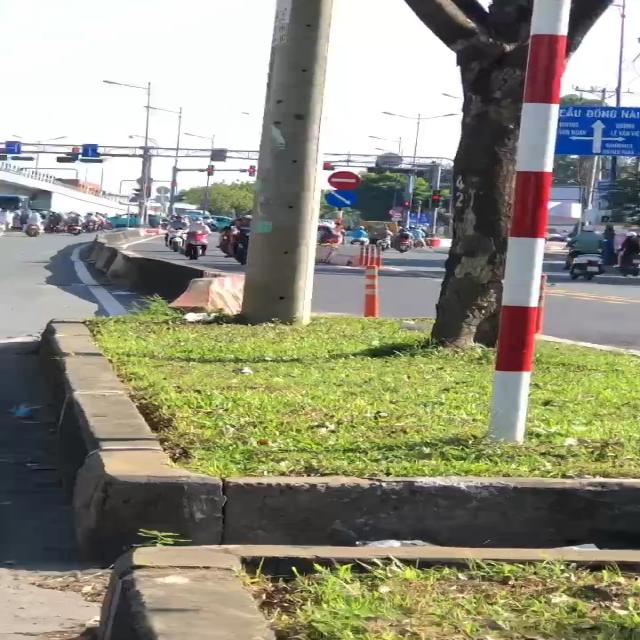Bien bao cam di nguoc chieu: (327, 169, 364, 191)
Bien bao huong phai di vong chuong ngai vat: (322, 188, 374, 213)
